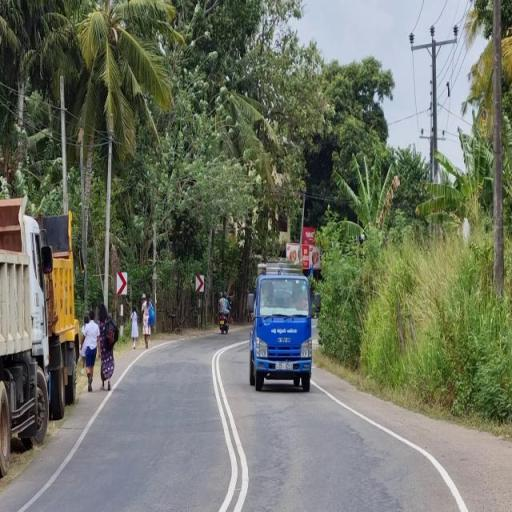double_white_line: (211, 341, 247, 511)
